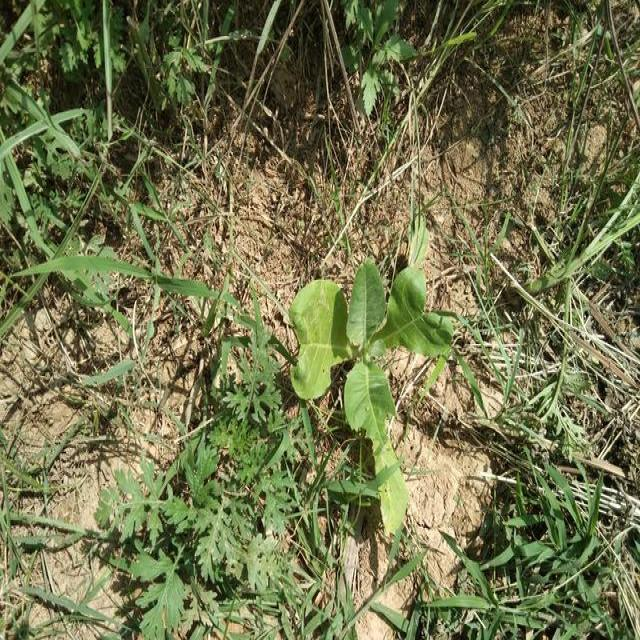crop: (295, 263, 455, 524)
